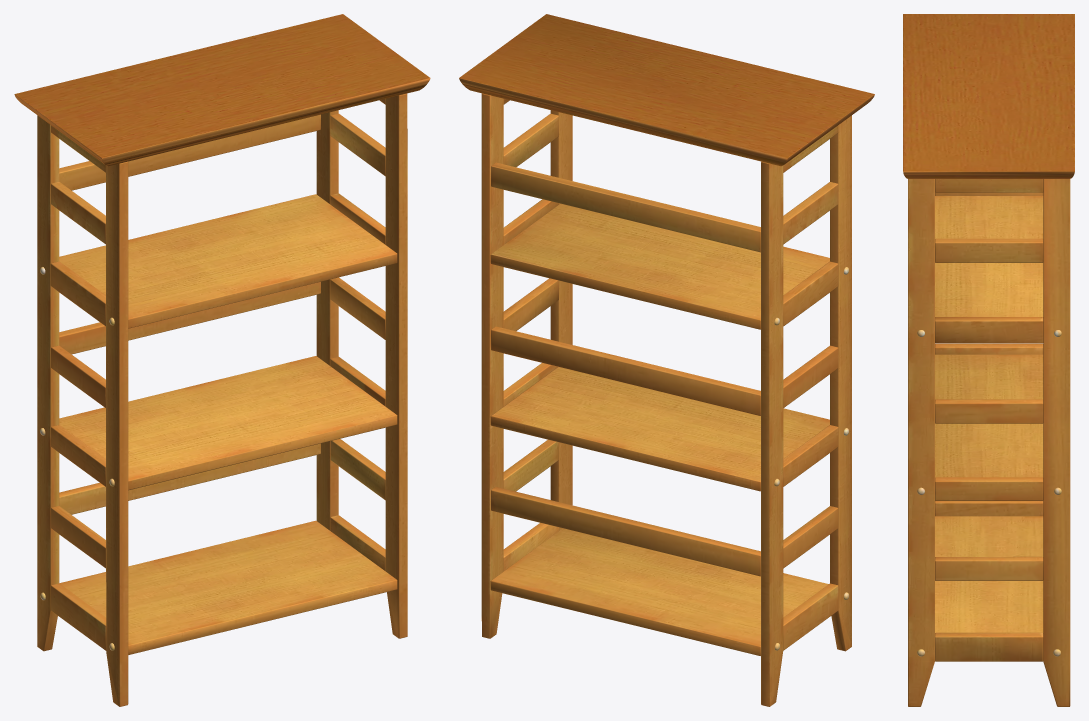
Rendered from B07GP6DMDF.glb.
3 renders of one model, left to right at view 1: azimuth 30°, elevation 25°; view 2: azimuth 150°, elevation 25°; view 3: azimuth 270°, elevation 25°, orthographic.
Visible parts, largest first — view 1: B07GP6DMDF; view 2: B07GP6DMDF; view 3: B07GP6DMDF.
Boxes of the visible parts, x1,y1,x2,y2 form: B07GP6DMDF: (14, 14, 430, 706); B07GP6DMDF: (459, 14, 874, 706); B07GP6DMDF: (903, 14, 1074, 706).
Bounding box in the file's own units: 0.6601 × 1.07 × 0.3046.
Materials: 1 (1 with a texture image).
